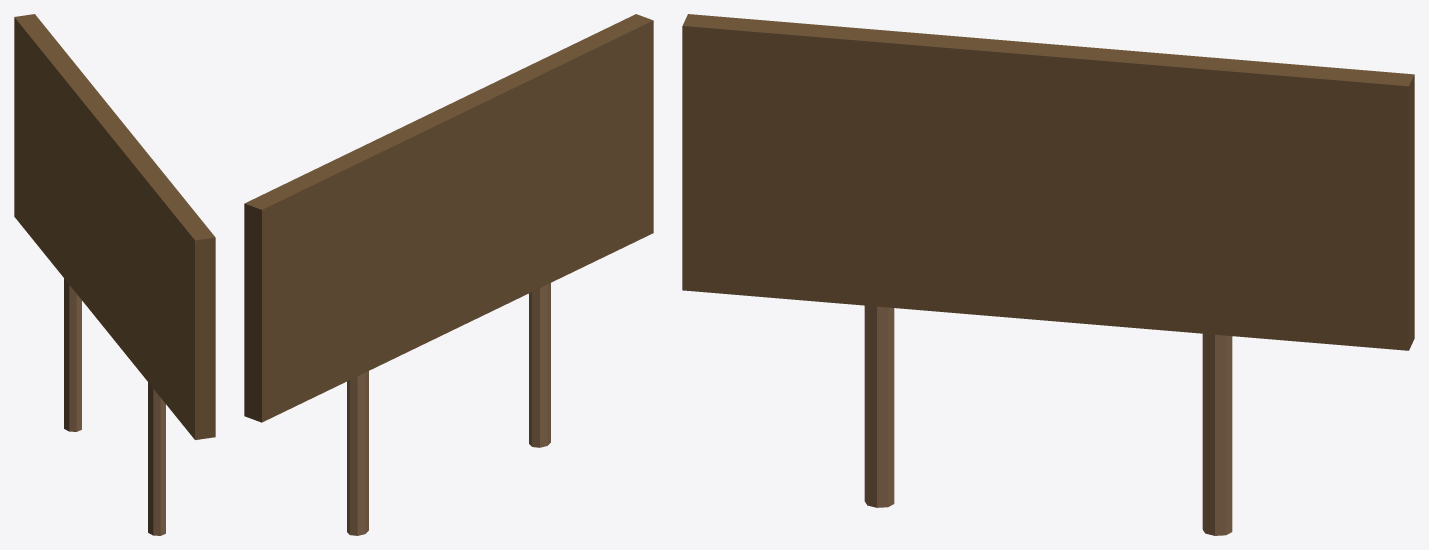
Rendered from cartel_portal_lev3.glb.
The picture shows the model from 3 angles, left to right: view 1: azimuth 30°, elevation 25°; view 2: azimuth 150°, elevation 25°; view 3: azimuth 270°, elevation 25°; orthographic projection. The views are drawn at different scales.
Visible parts, largest first — view 1: cartel_portal_lev3; view 2: cartel_portal_lev3; view 3: cartel_portal_lev3.
Boxes of the visible parts, x1=… form: cartel_portal_lev3: x1=14, y1=14, x2=215, y2=535; cartel_portal_lev3: x1=244, y1=14, x2=653, y2=535; cartel_portal_lev3: x1=682, y1=14, x2=1414, y2=535.
Size of the model in its own units: 2.24 by 6.74 by 9.58.
